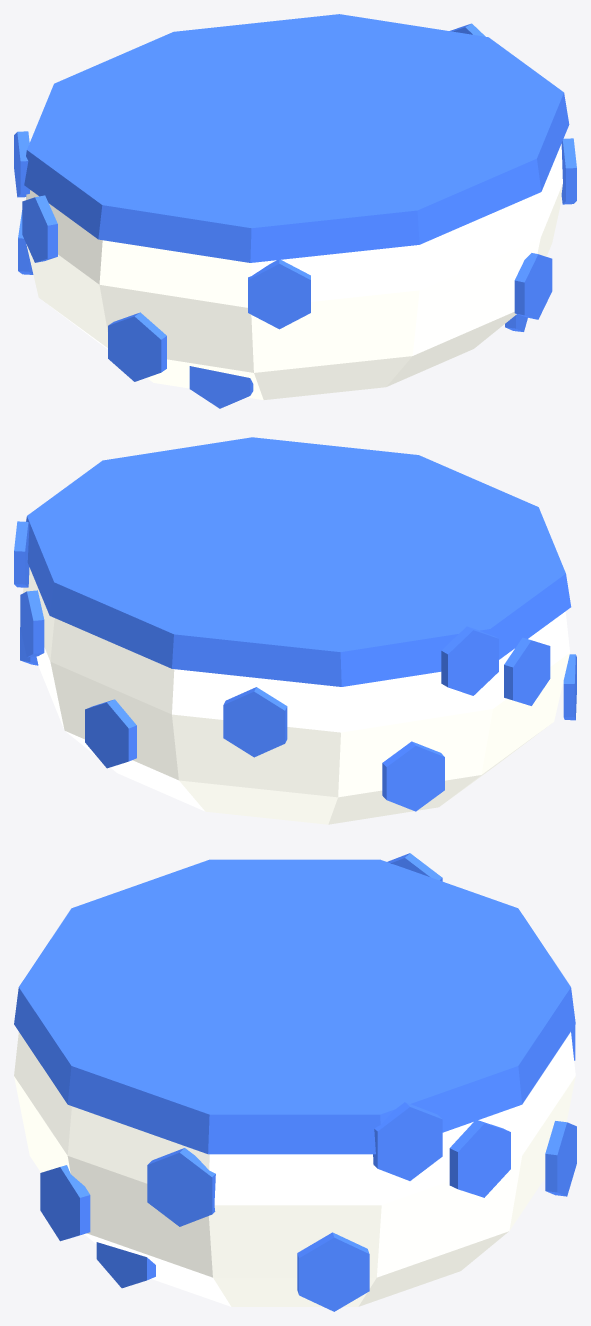
The model's file is Witch_Panties_own.gltf.
The picture shows the model from 3 angles, top to bottom: view 1: azimuth 30°, elevation 25°; view 2: azimuth 150°, elevation 25°; view 3: azimuth 270°, elevation 25°; orthographic projection. The views are drawn at different scales.
Visible parts, largest first — view 1: Witch_Panties_own; view 2: Witch_Panties_own; view 3: Witch_Panties_own.
Part boxes in pixels (x1=…): Witch_Panties_own: x1=14, y1=14, x2=576, y2=408; Witch_Panties_own: x1=14, y1=437, x2=576, y2=824; Witch_Panties_own: x1=14, y1=853, x2=576, y2=1311.
Bounding box in the file's own units: 0.4144 × 0.164 × 0.3567.
